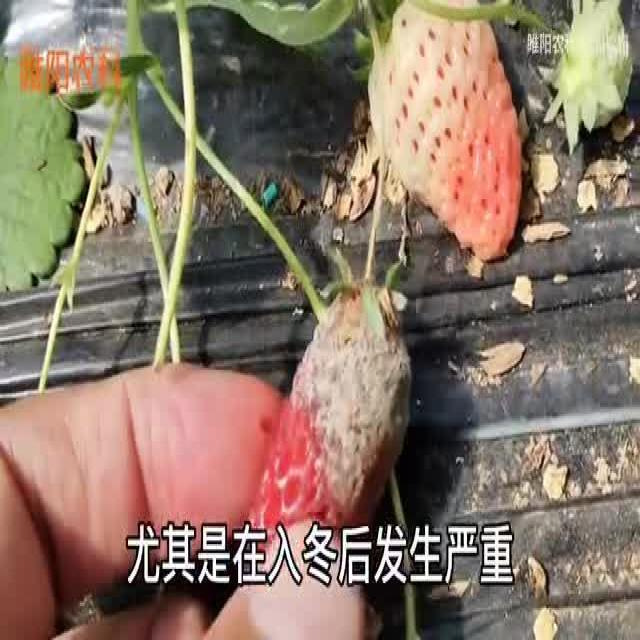Moho gris: (238, 272, 401, 534)
